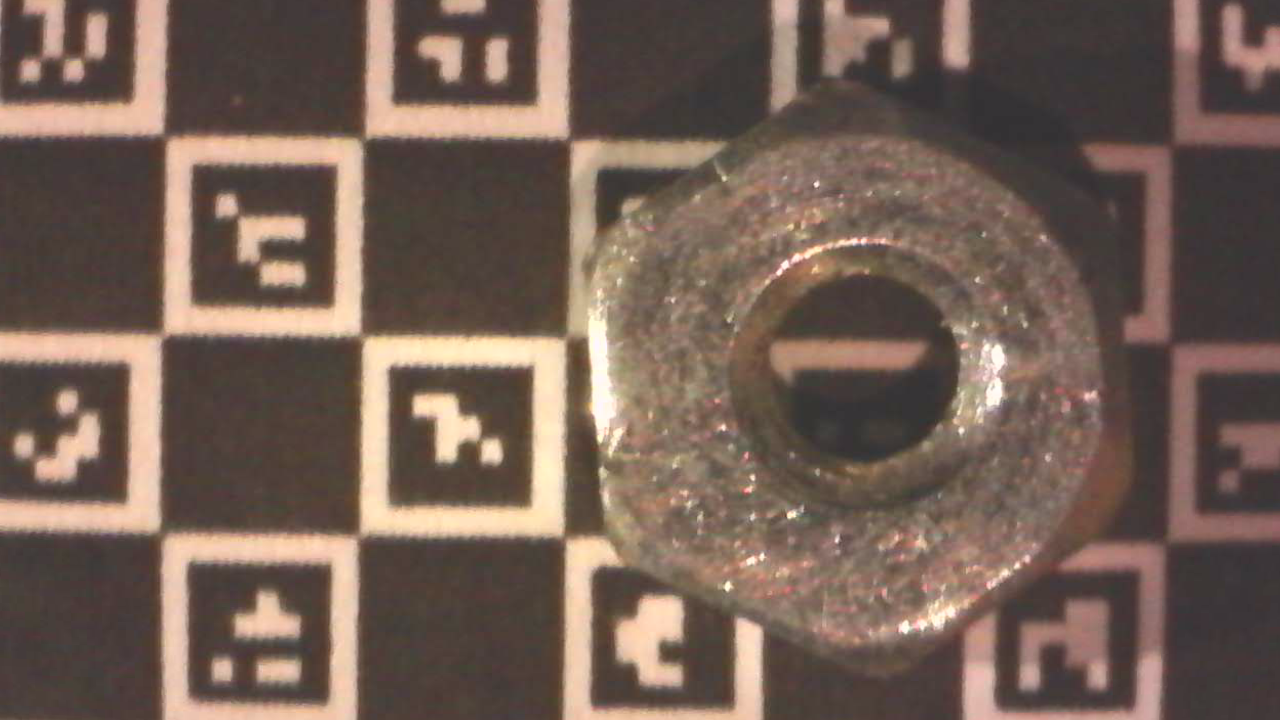Bolt: (579, 69, 1135, 684)
